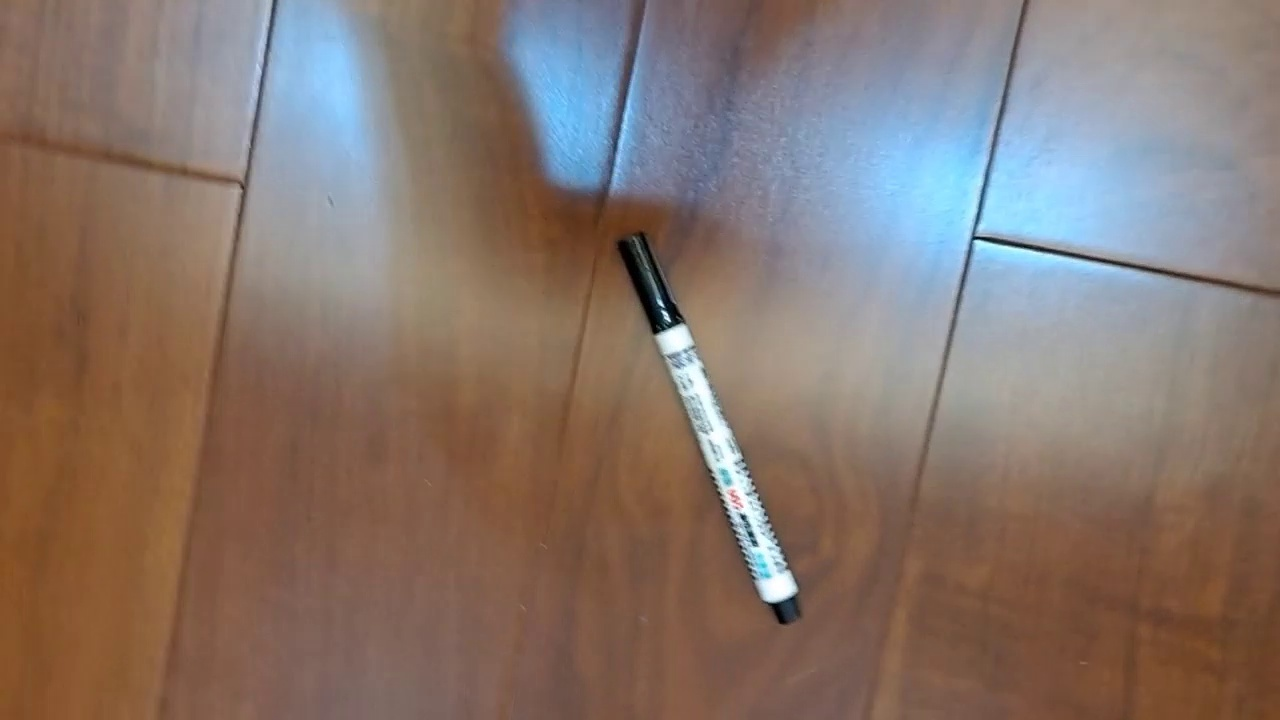pen: (614, 228, 804, 627)
